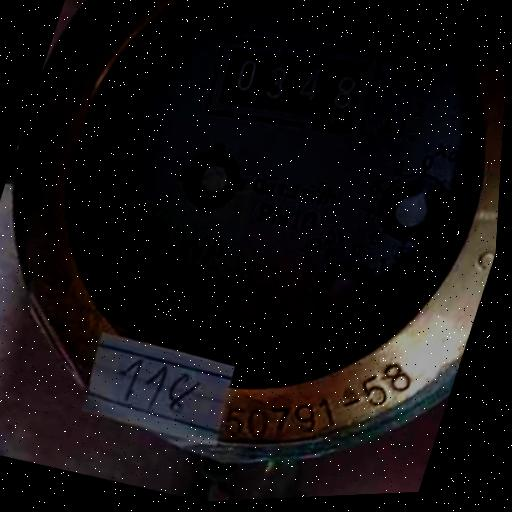0: (212, 43, 273, 113)
3: (250, 47, 305, 117)
4: (282, 52, 331, 120)
8: (304, 52, 372, 139)
border_water_meter_number: (193, 10, 392, 156)
